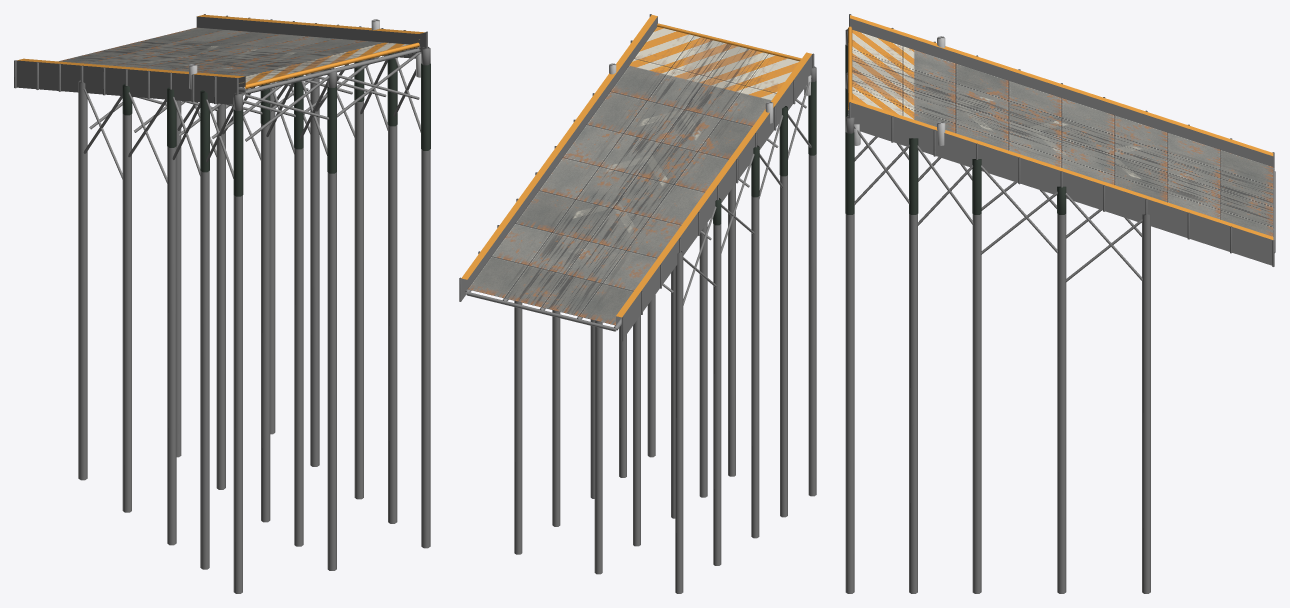
Rendered from ramp.glb.
3 views of the same model, side by side, from view 1: azimuth 30°, elevation 25°; view 2: azimuth 150°, elevation 25°; view 3: azimuth 270°, elevation 25° (orthographic). The views are drawn at different scales.
Visible parts, largest first — view 1: Ramp; view 2: Ramp; view 3: Ramp.
Boxes of the visible parts, x1,y1,x2,y2 form: Ramp: (14, 14, 430, 593); Ramp: (459, 14, 816, 593); Ramp: (845, 14, 1275, 593).
Bounding box in the file's own units: 20.26 × 51.1 × 40.64.
Materials: 5 (1 with a texture image).
